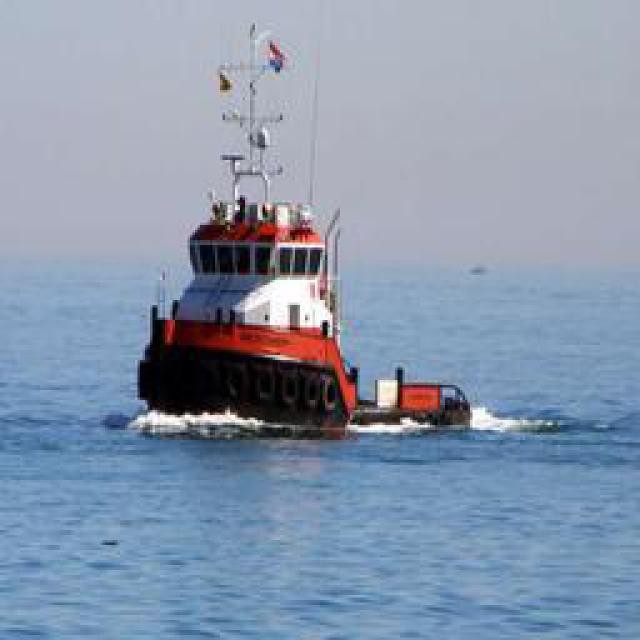Ship: (133, 50, 498, 445)
